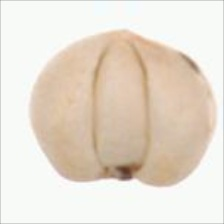L5: (90, 35, 150, 183), (74, 159, 162, 188), (84, 27, 163, 50)
L6: (27, 26, 219, 190)
